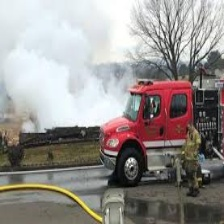smoke: (3, 4, 130, 122)
